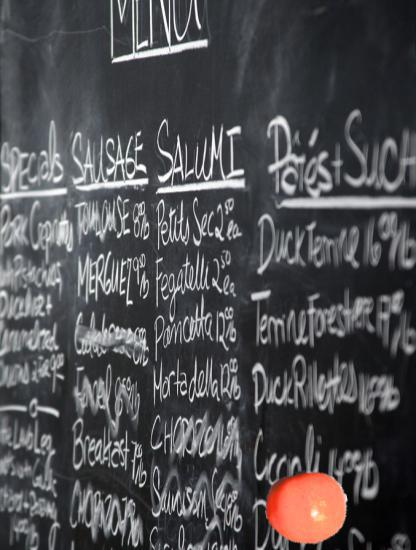Clementine: (265, 466, 349, 550)
